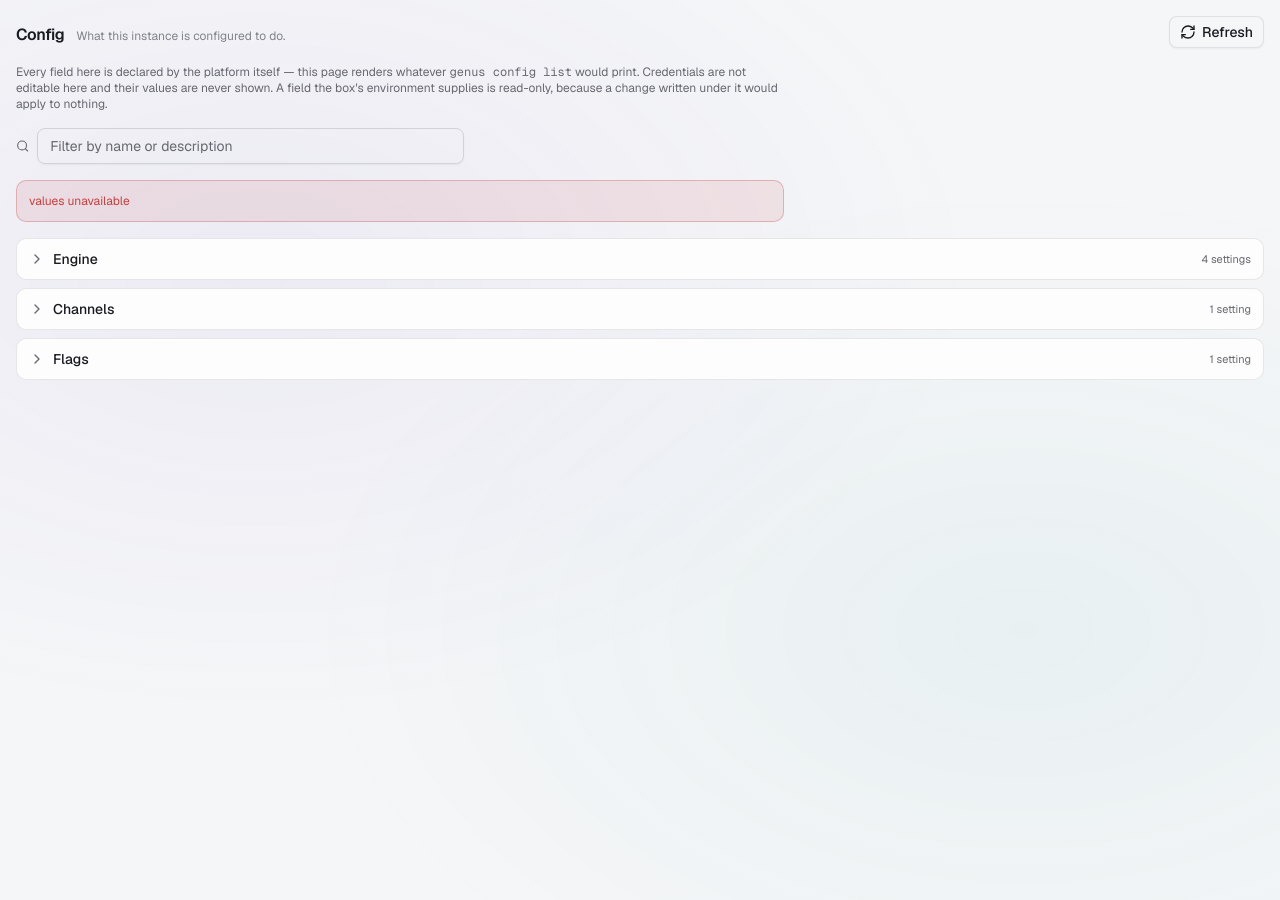
Test: Settings › Config › keeps the groups on screen when only the values fail to load
Expected: the text "values unavailable" is shown, x1=16 y1=180 x2=784 y2=222
Click the button with test id "config-group-toggle-engine". click: click(75, 259)
box: x1=17 y1=239 x2=1263 y2=279
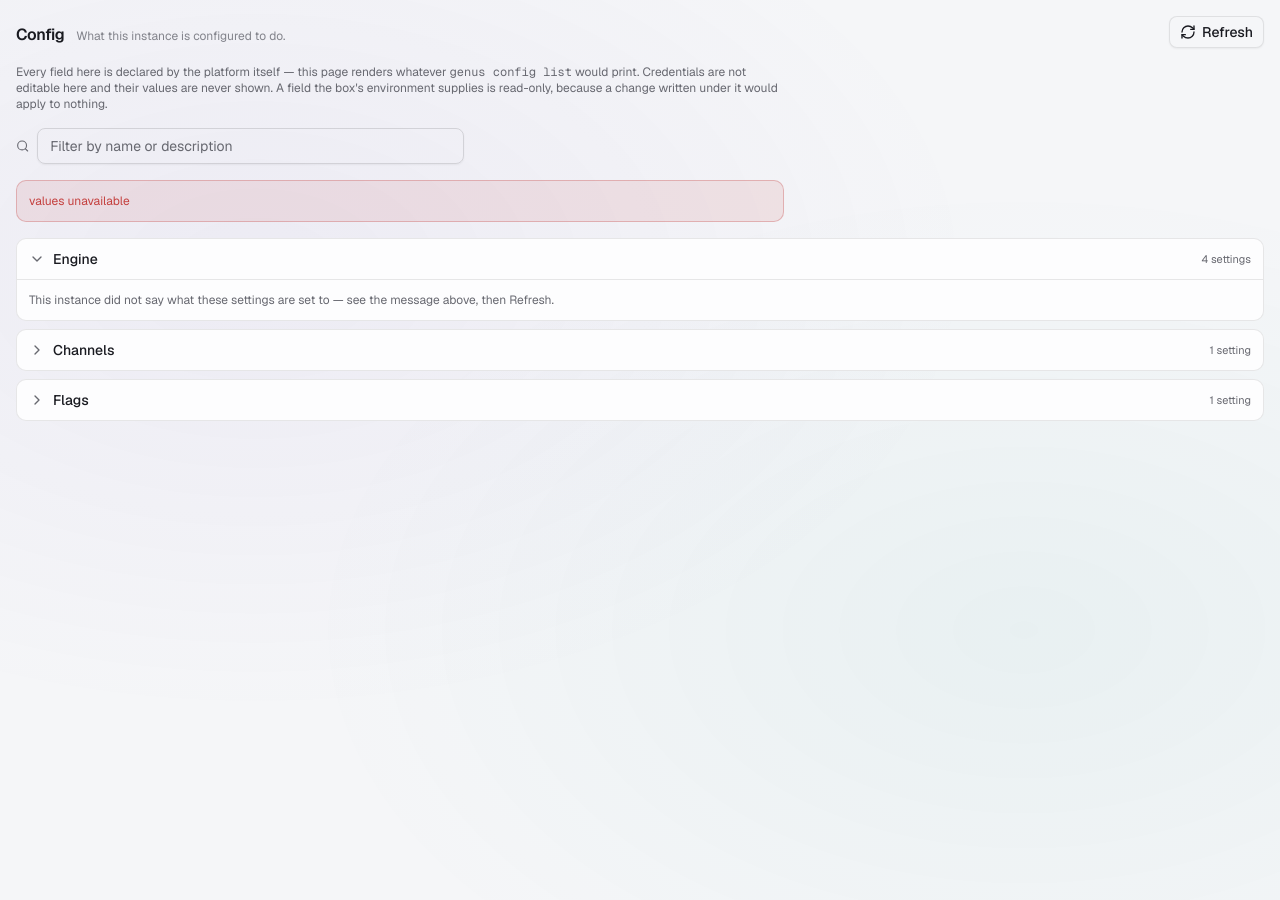
Expected: the text with test id "config-values-unavailable-engine" is shown, x1=17 y1=279 x2=1263 y2=320
